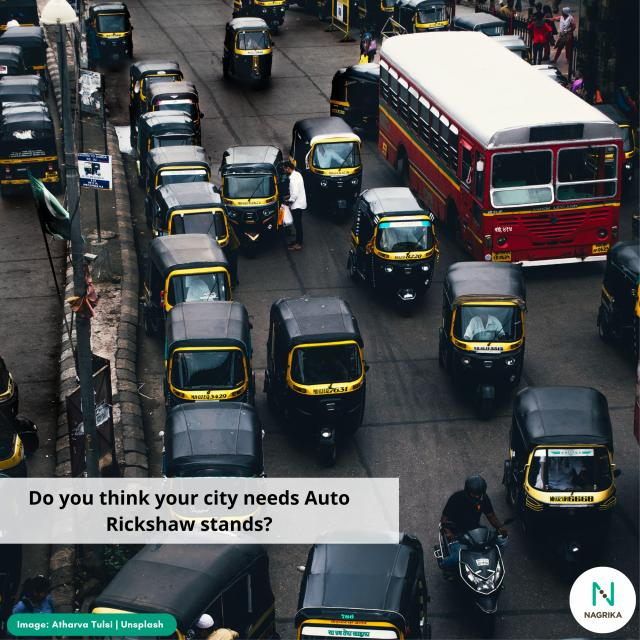autorikshaw: (506, 388, 616, 570), (266, 295, 371, 460), (443, 259, 523, 409), (161, 302, 255, 420), (351, 185, 433, 311), (147, 235, 234, 334), (217, 145, 291, 252), (294, 118, 361, 215), (0, 110, 64, 197), (222, 15, 276, 81), (86, 1, 136, 65)
bus: (375, 32, 623, 266)
motorcycle: (437, 516, 508, 636)
